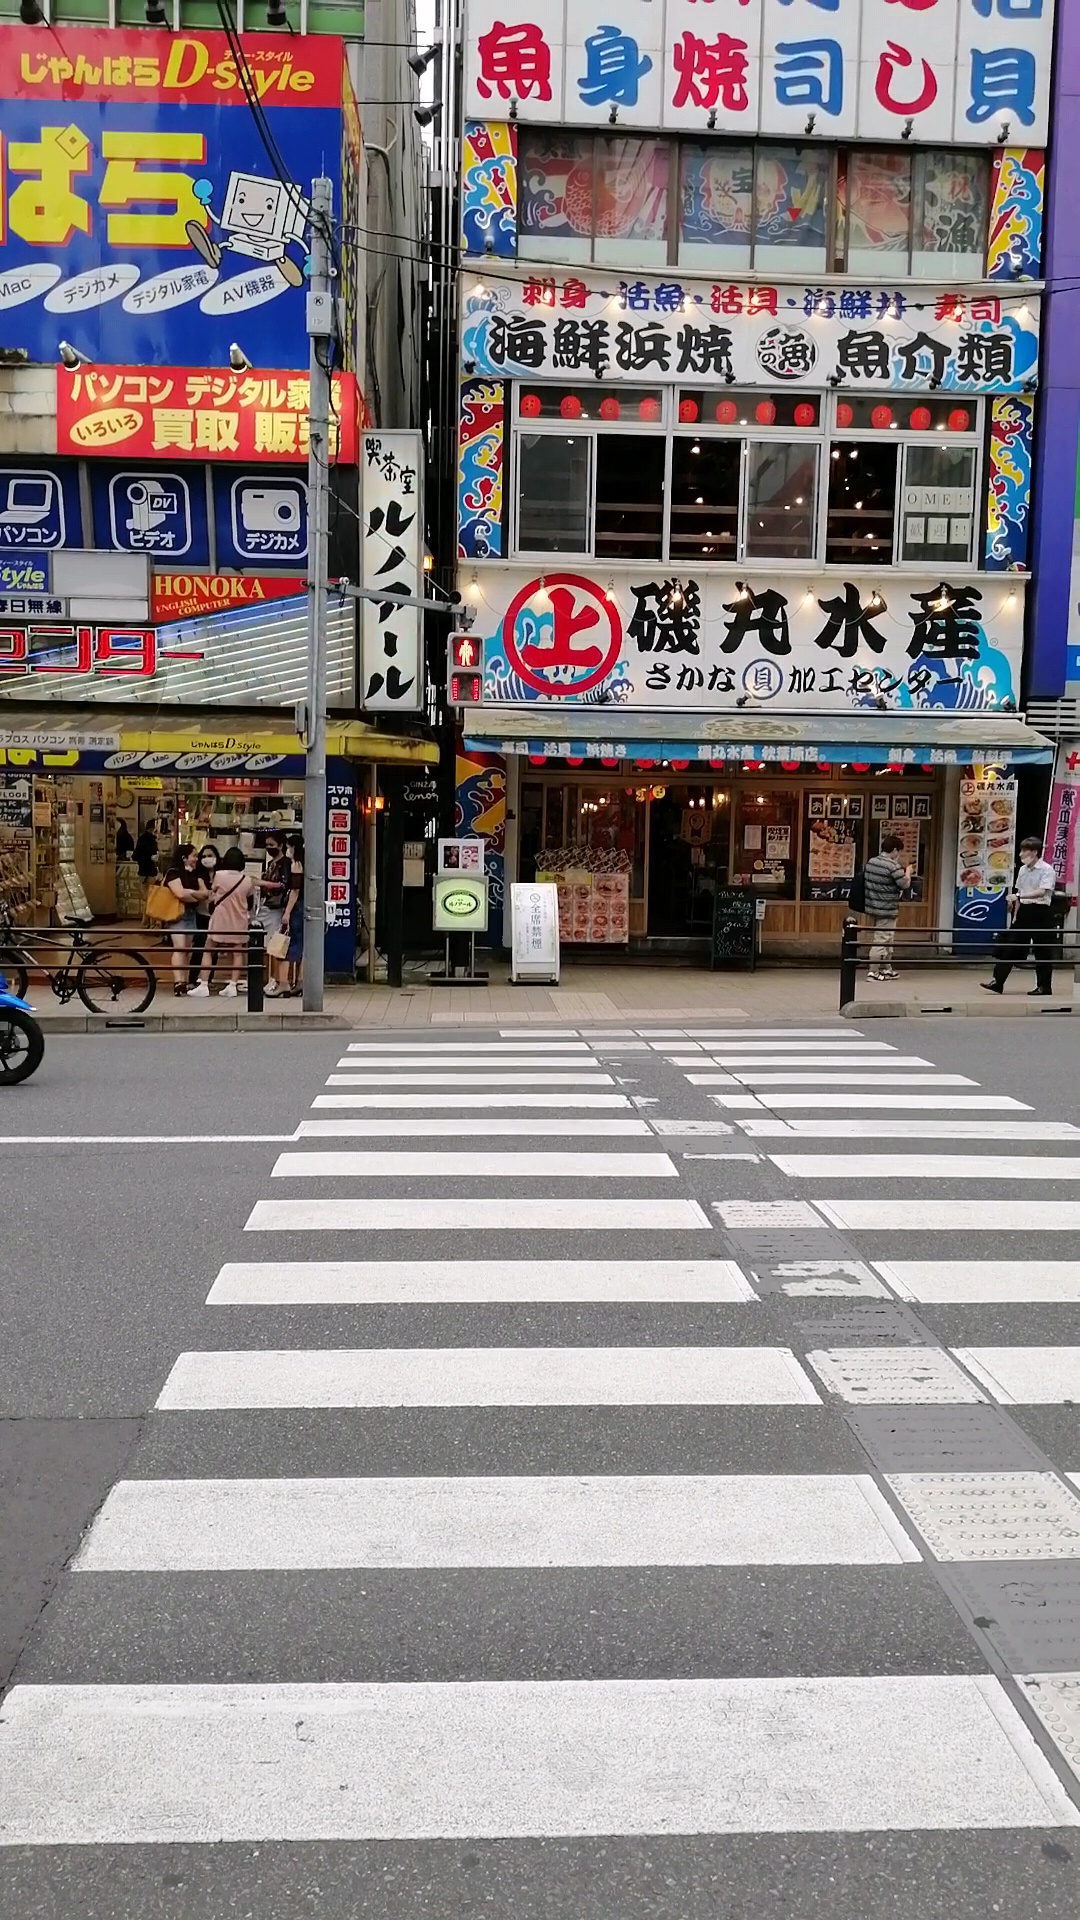red: (447, 632, 484, 707)
